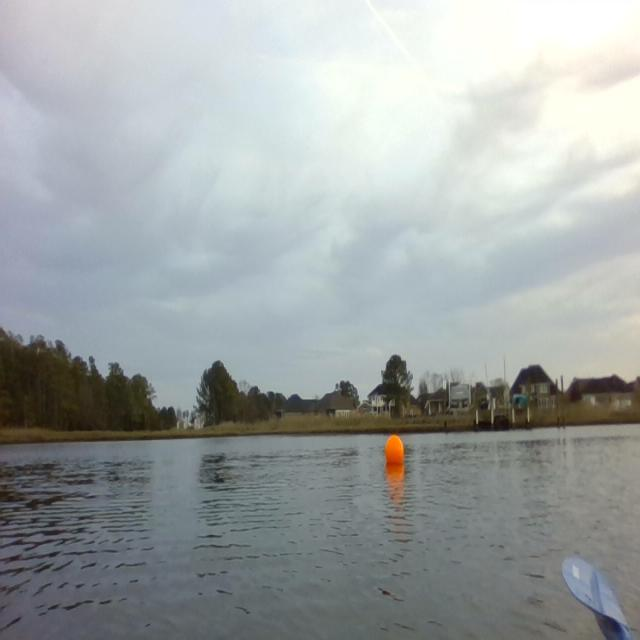Buoy: (383, 432, 406, 469)
